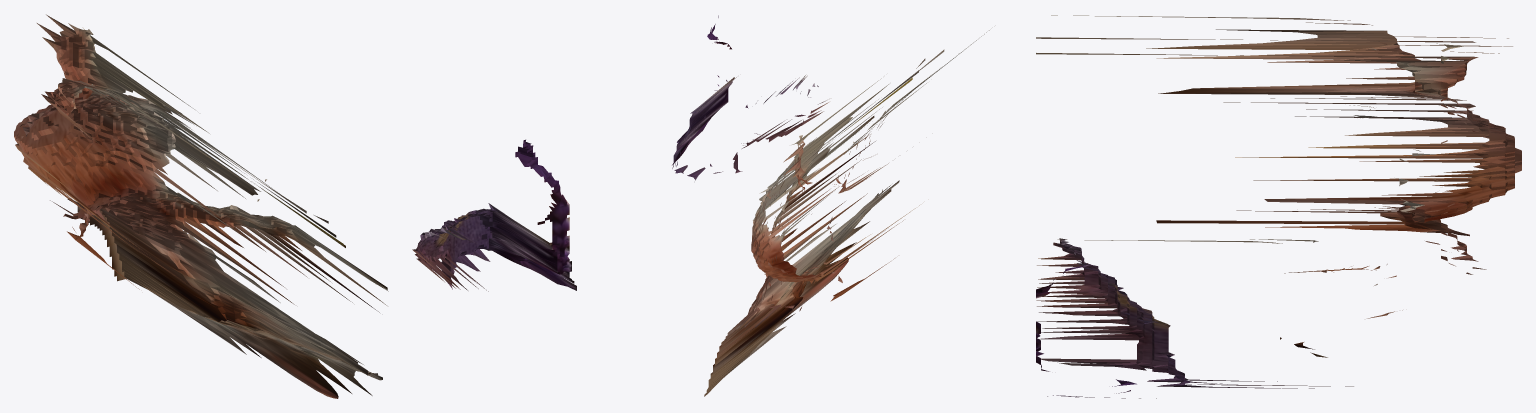
File: frame_00307.glb
The picture shows the model from 3 angles, left to right: view 1: azimuth 30°, elevation 25°; view 2: azimuth 150°, elevation 25°; view 3: azimuth 270°, elevation 25°; orthographic projection. The views are drawn at different scales.
Parts seen in each view (by area): view 1: geometry_0; view 2: geometry_0; view 3: geometry_0.
Part boxes in pixels (left/top/right/bottom): geometry_0: left=14, top=14, right=576, bottom=398; geometry_0: left=672, top=15, right=989, bottom=396; geometry_0: left=1036, top=15, right=1521, bottom=398.
Bounding box in the file's own units: 0.1417 × 0.1144 × 0.16.
1 material, 1 textured.
